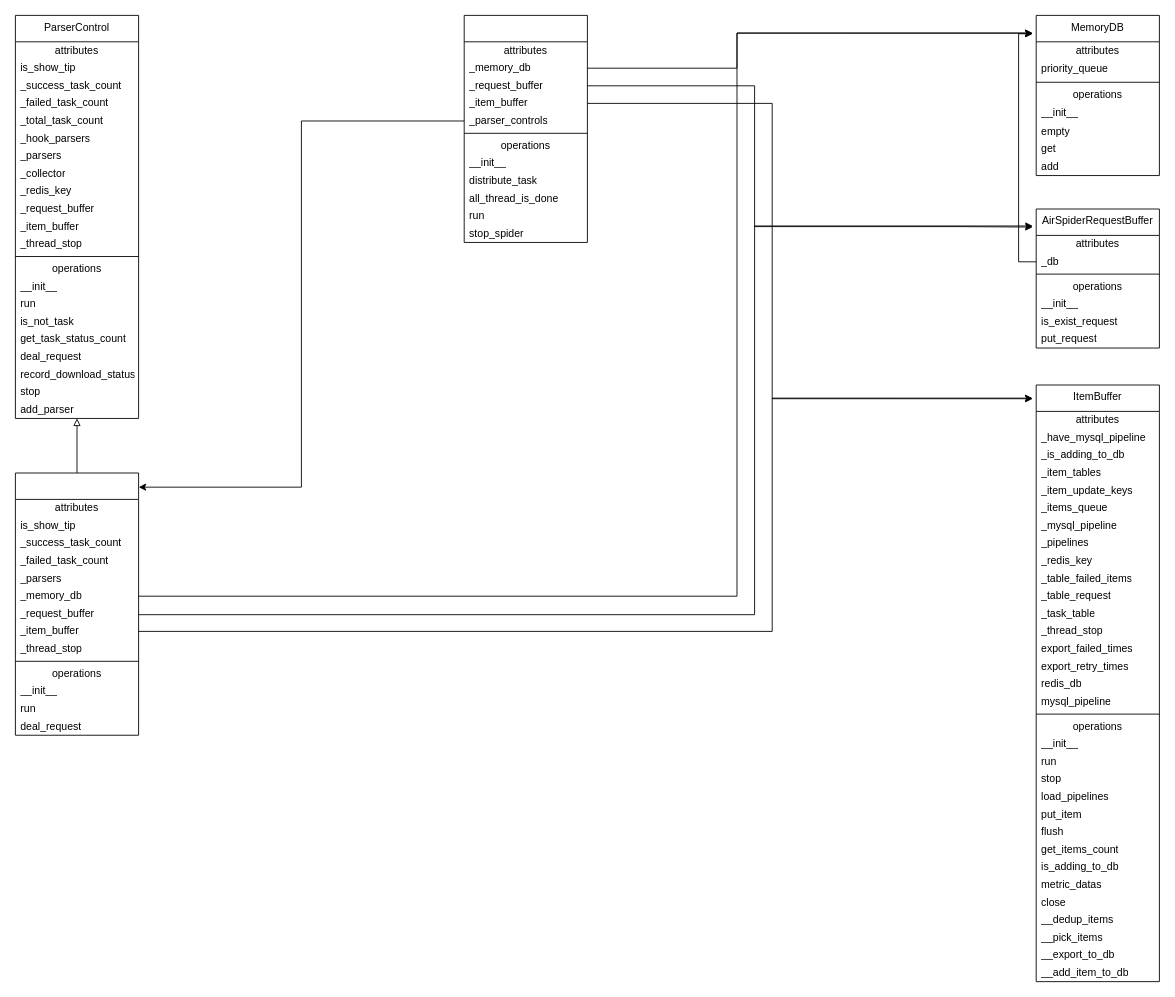
This 1175x997 diagram has some shape labels left out. The box of each missing label's shape, as (x1, y1, x2, y2) in pixels:
AirSpider: (463, 15, 587, 242)
AirSpiderParserControl: (15, 472, 139, 735)
